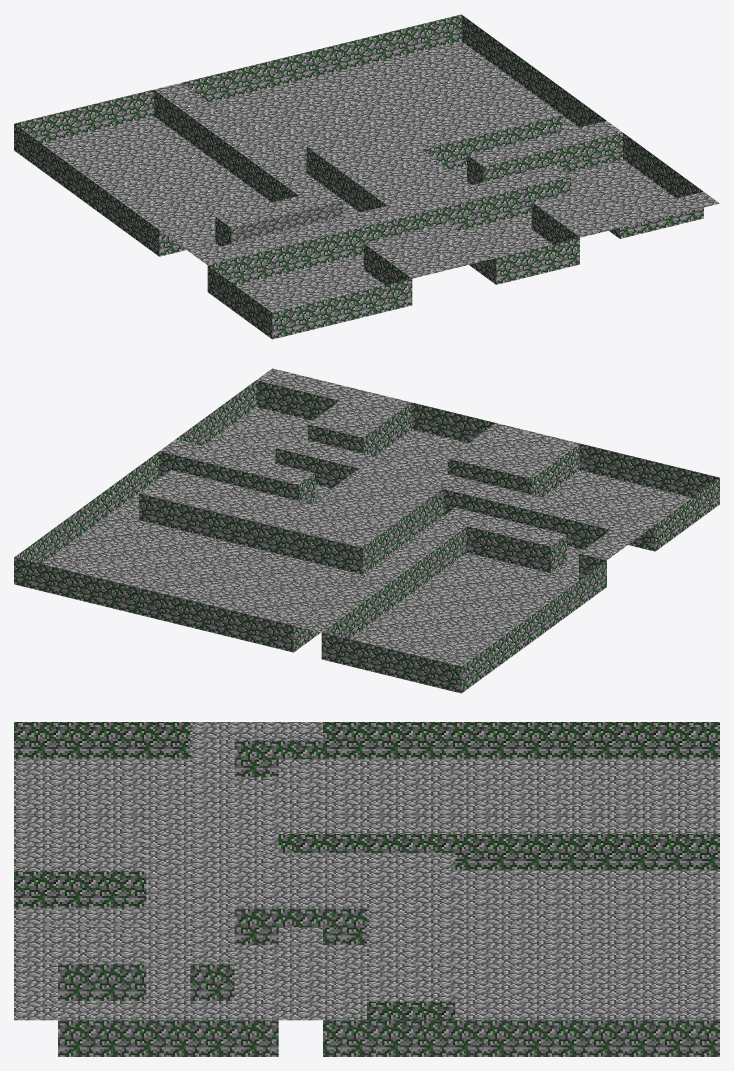
Rendered from level_large.obj.
3 renders of one model, top to bottom at view 1: azimuth 30°, elevation 25°; view 2: azimuth 150°, elevation 25°; view 3: azimuth 270°, elevation 25°, orthographic. The views are drawn at different scales.
Parts seen in each view (by area): view 1: Plane; view 2: Plane; view 3: Plane.
Boxes of the visible parts, x1,y1,x2,y2 form: Plane: (14, 14, 719, 339); Plane: (14, 368, 719, 693); Plane: (14, 722, 719, 1056).
Bounding box in the file's own units: 70 × 4 × 70.
2 materials, 2 textured.
